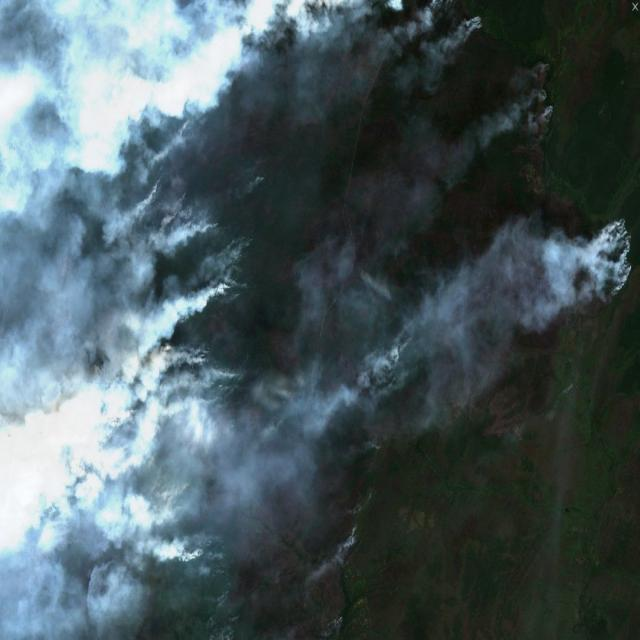fire: (86, 0, 302, 598), (580, 206, 636, 309)
